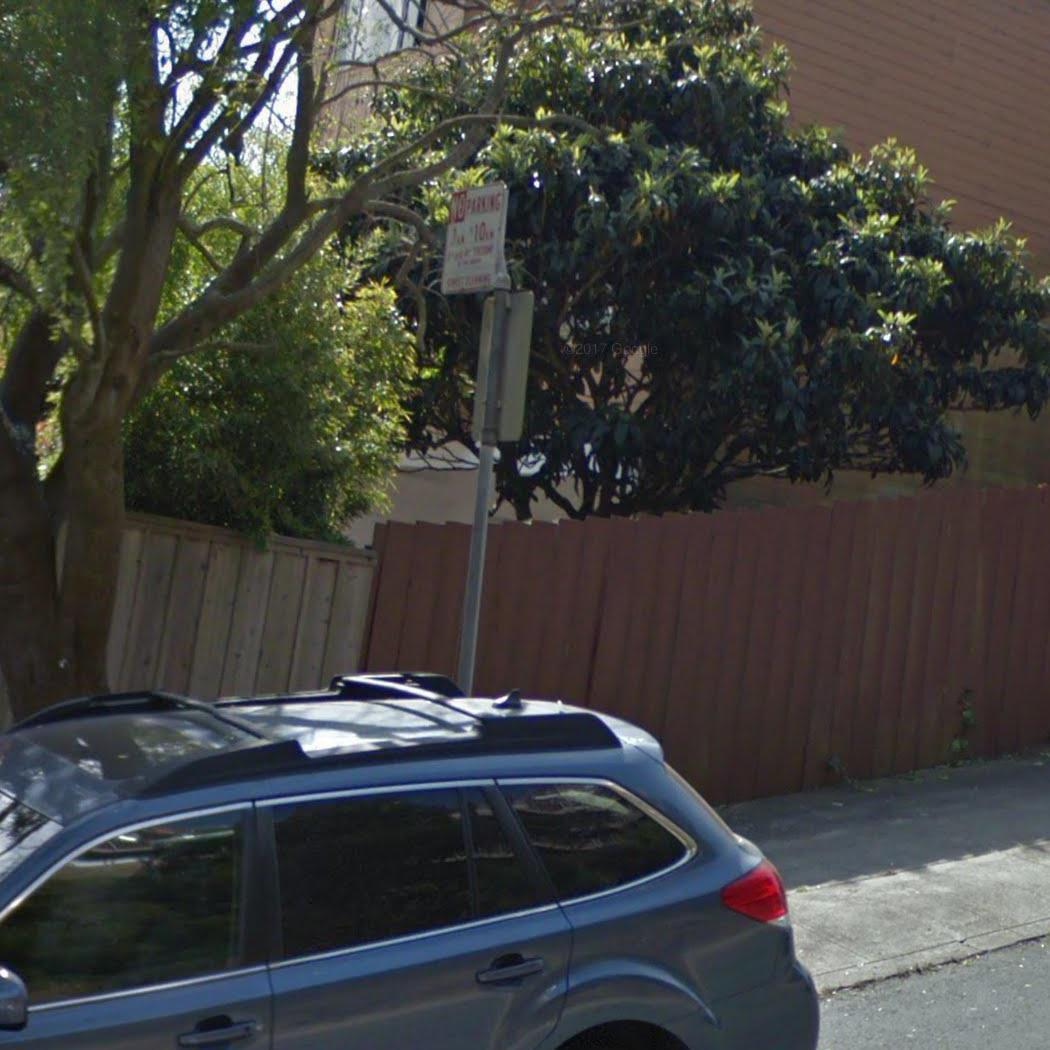No Parking: (434, 182, 510, 290)
